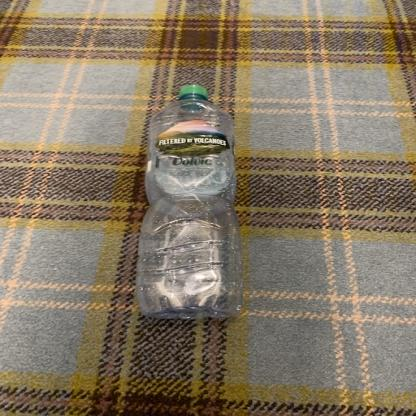trash: (132, 86, 240, 320)
